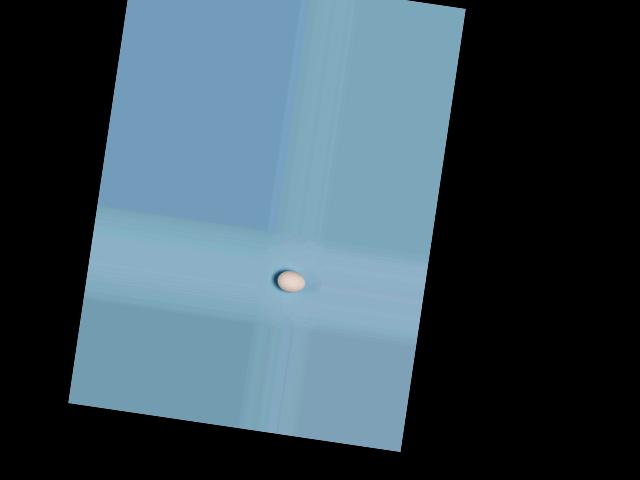egg: (275, 269, 306, 294)
